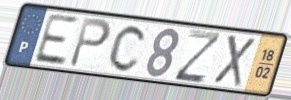8: (145, 26, 181, 79)
C: (106, 23, 149, 74)
E: (31, 12, 81, 68)
P: (67, 16, 113, 70)
X: (211, 33, 257, 89)
Z: (172, 28, 225, 85)
